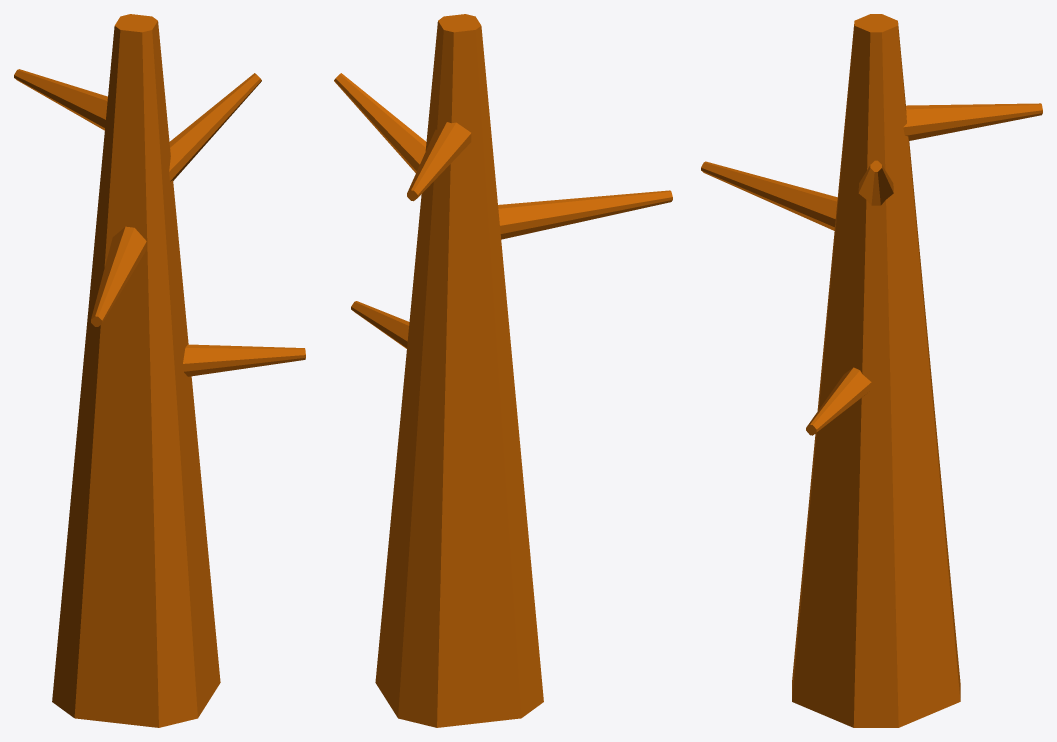
Rendered from TreeB1.fbx.
3 views of the same model, side by side, from view 1: azimuth 30°, elevation 25°; view 2: azimuth 150°, elevation 25°; view 3: azimuth 270°, elevation 25° (orthographic).
Parts seen in each view (by area): view 1: Cube.104; view 2: Cube.104; view 3: Cube.104.
Part boxes in pixels (x1,y1,x2,y2): Cube.104: (14,14,305,727); Cube.104: (334,14,672,727); Cube.104: (701,14,1042,727).
Bounding box in the file's own units: 3.67 × 8.76 × 4.06.
Materials: 1 (1 with a texture image).
